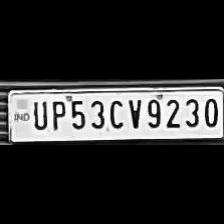0: (200, 95, 220, 127)
2: (162, 95, 180, 129)
3: (86, 96, 106, 130), (180, 94, 200, 128)
5: (66, 96, 86, 130)
9: (143, 95, 161, 129)
C: (105, 96, 124, 130)
P: (47, 96, 66, 132)
U: (29, 97, 48, 130)
V: (125, 96, 143, 130)
